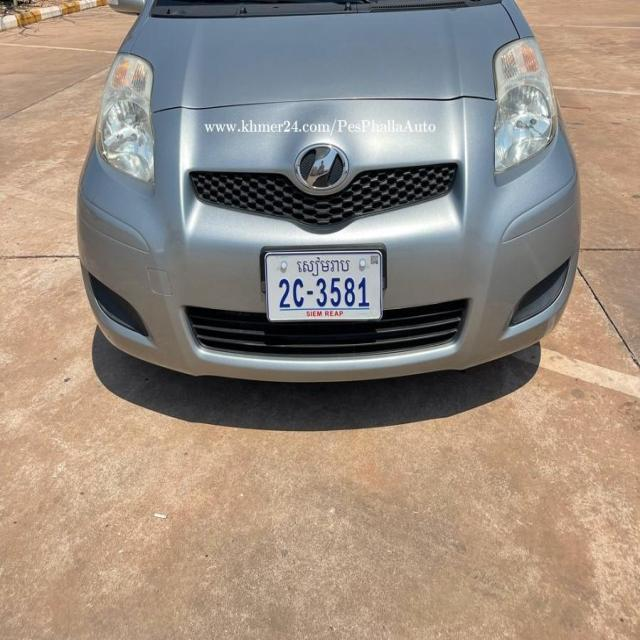Siem_Reap: (297, 257, 350, 278)
